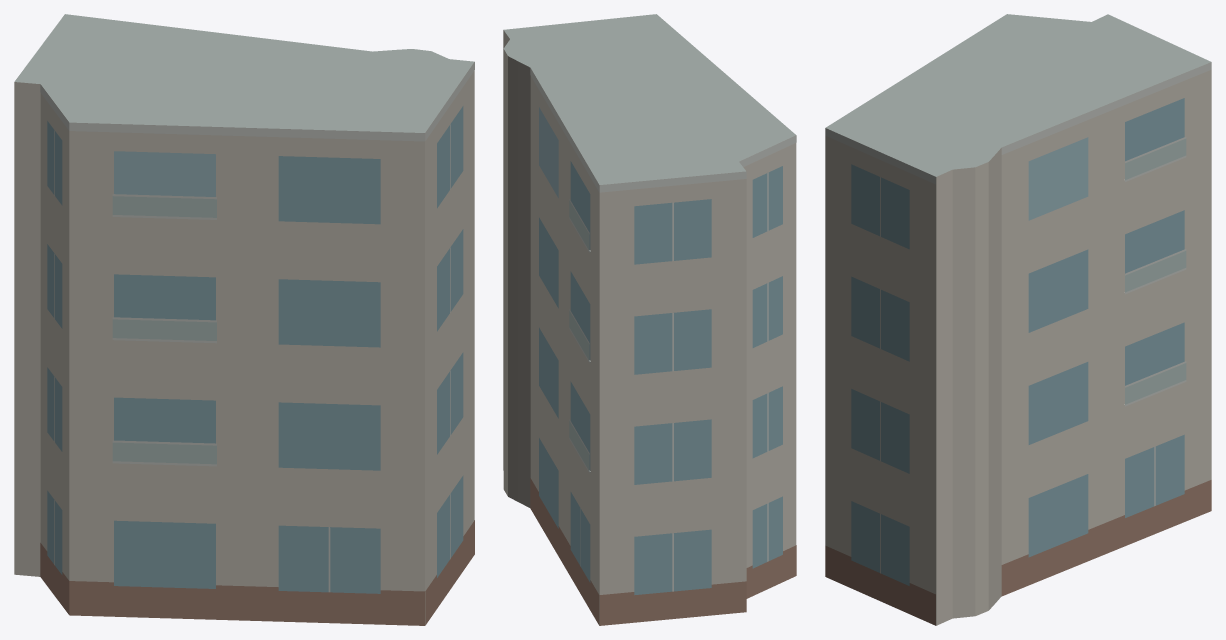
Rendered from survey-upis-32504037.glb.
3 views of the same model, side by side, from view 1: azimuth 30°, elevation 25°; view 2: azimuth 150°, elevation 25°; view 3: azimuth 270°, elevation 25° (orthographic). The views are drawn at different scales.
Parts seen in each view (by area): view 1: survey-upis-32504037.tmp; view 2: survey-upis-32504037.tmp; view 3: survey-upis-32504037.tmp.
Boxes of the visible parts, <box> form: survey-upis-32504037.tmp: <box>14,14,474,625</box>; survey-upis-32504037.tmp: <box>503,14,796,625</box>; survey-upis-32504037.tmp: <box>825,14,1211,625</box>.
Size of the model in its own units: 11.14 by 14.3 by 11.16.
